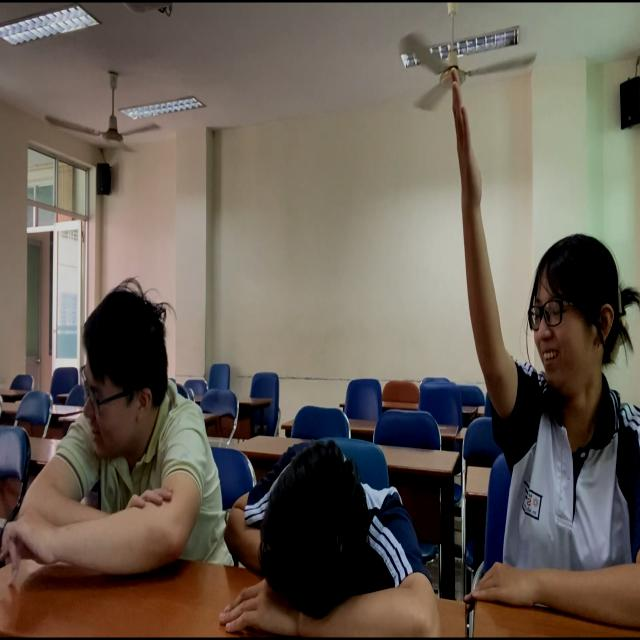raise_hand: (443, 60, 640, 619)
sleep: (223, 445, 416, 636)
